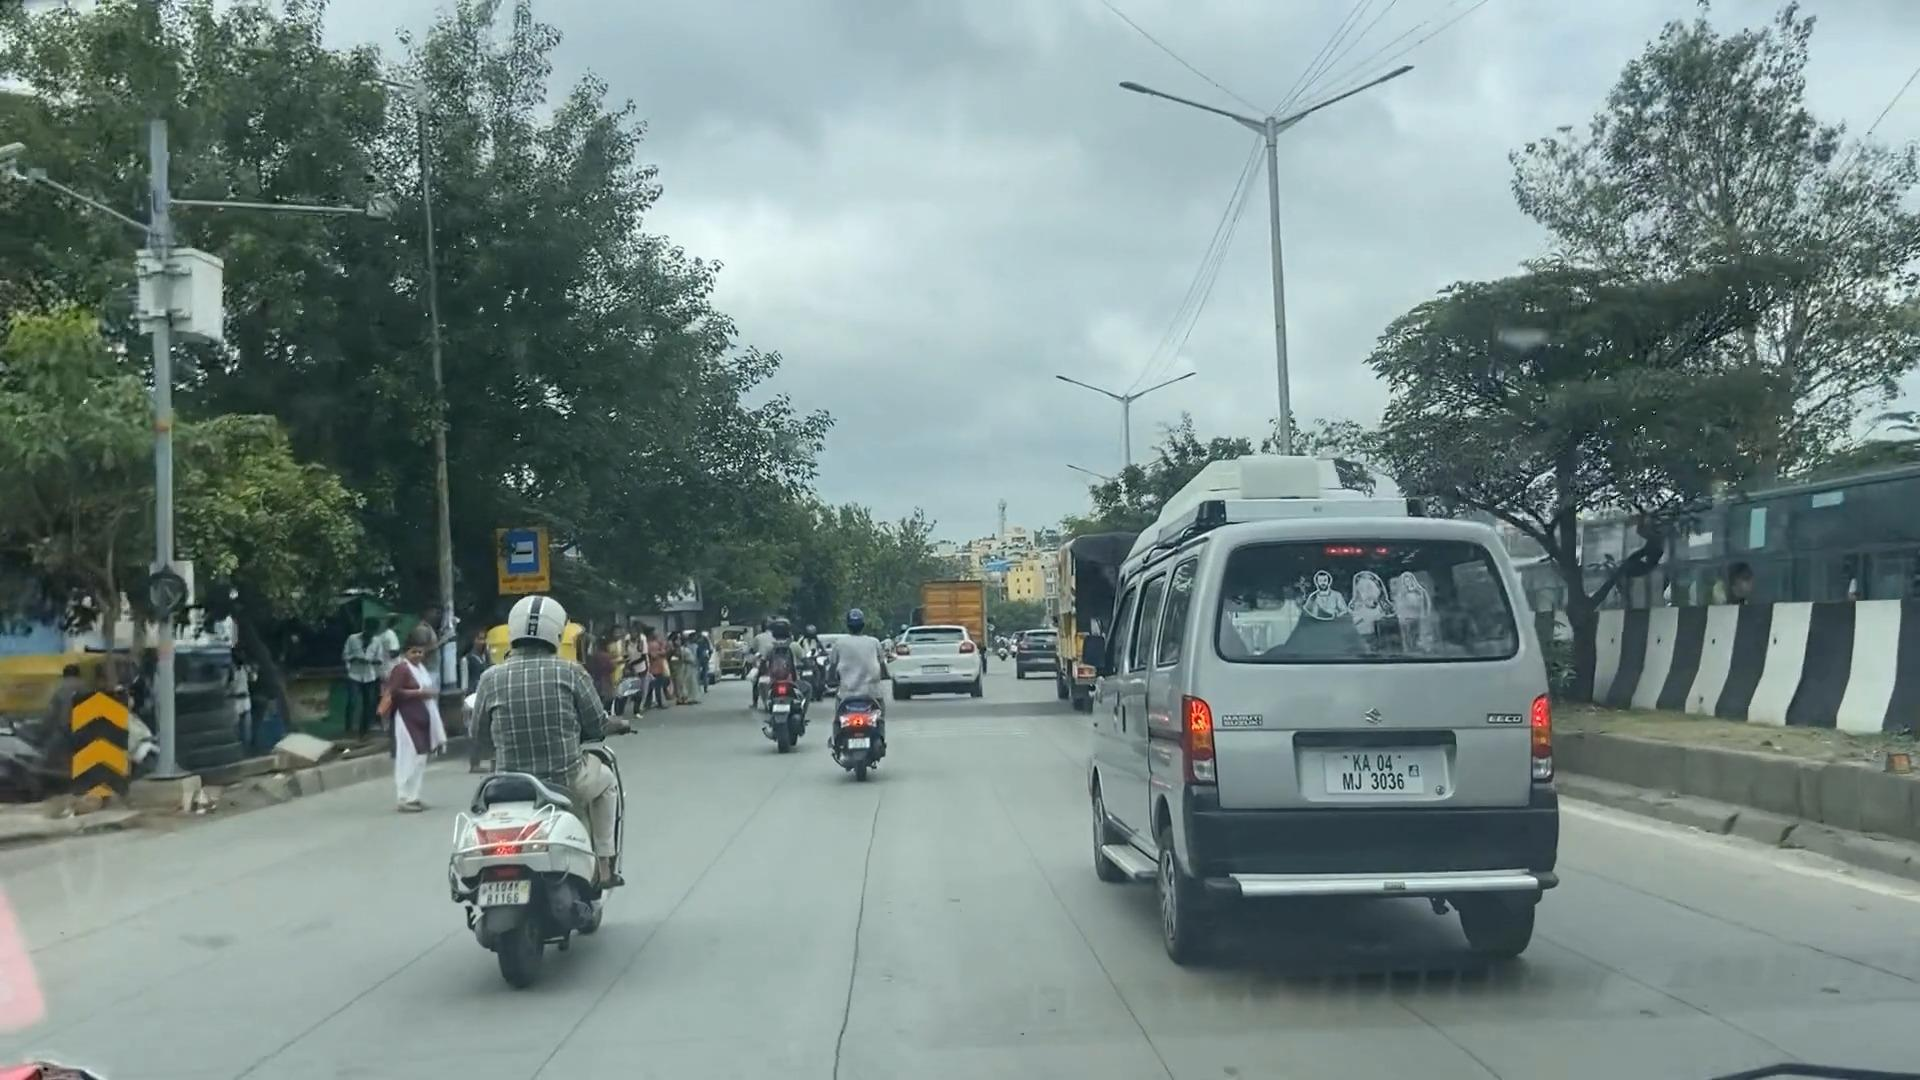LMV: (1038, 518, 1563, 1001), (446, 603, 609, 982)
